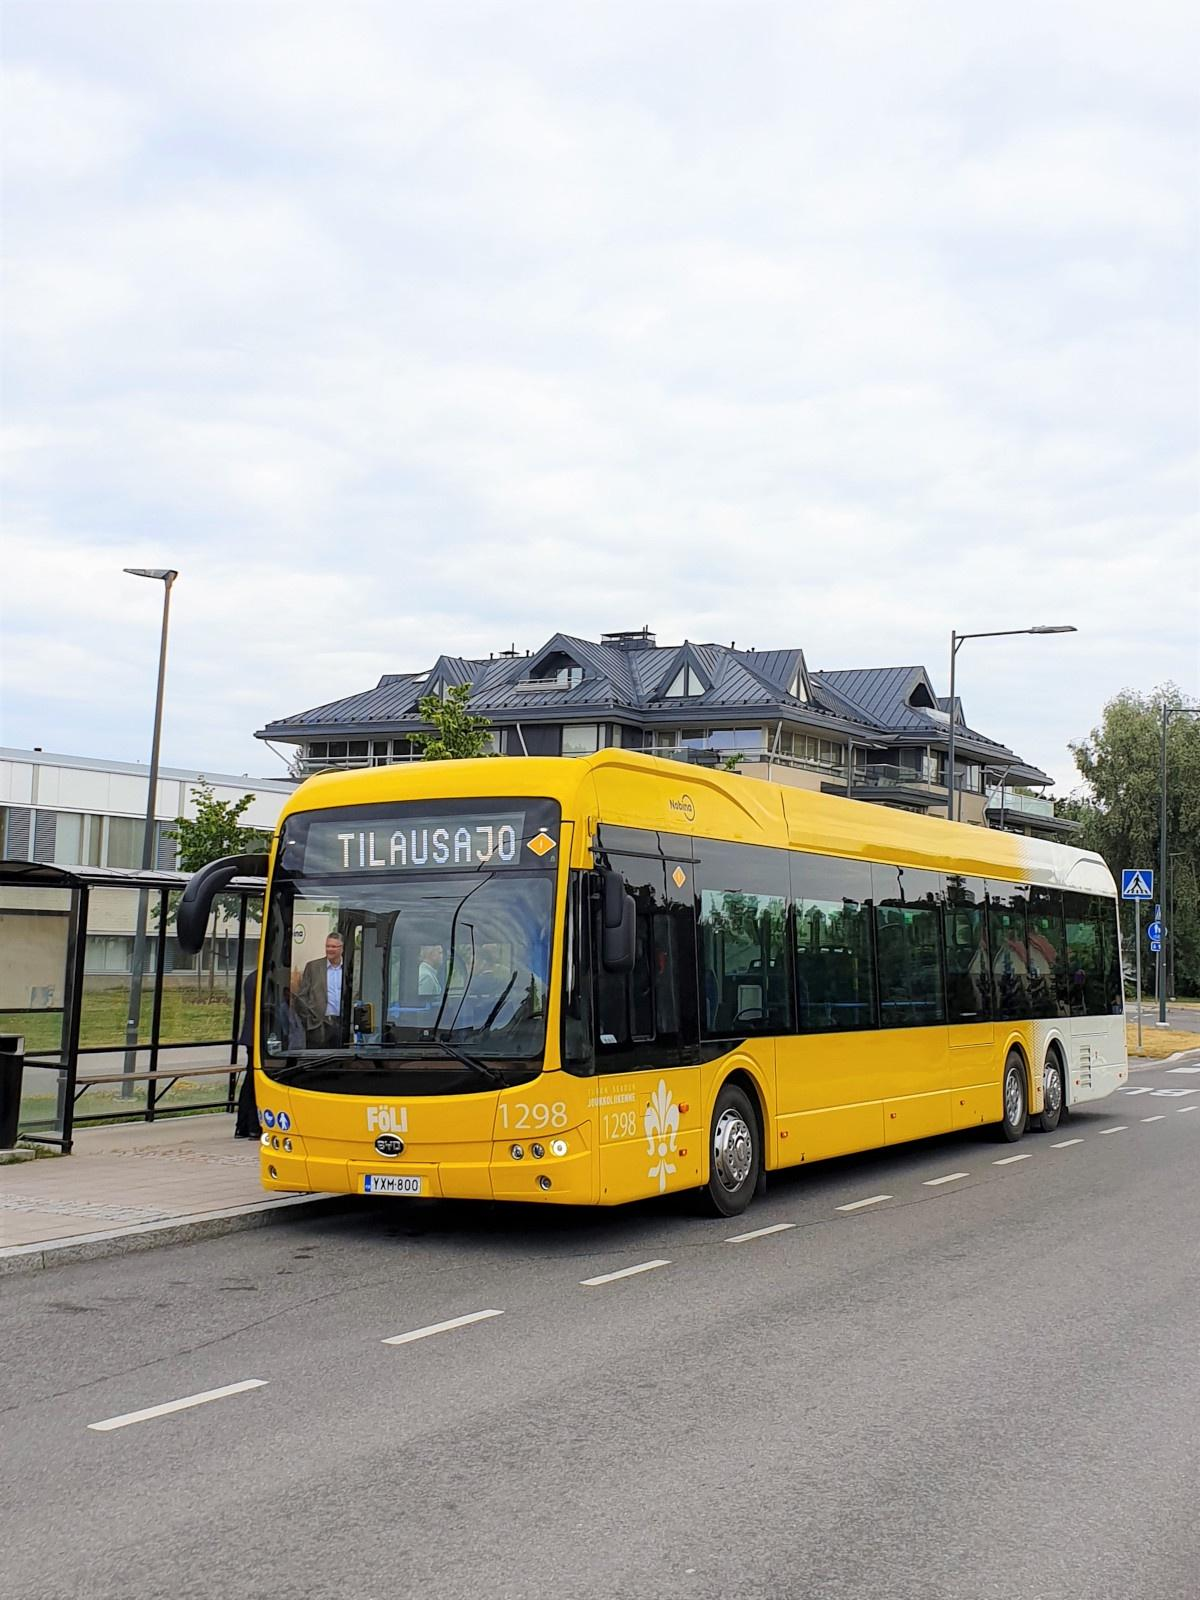bus: (165, 745, 1155, 1223)
traffic sign: (1121, 860, 1158, 1057)
